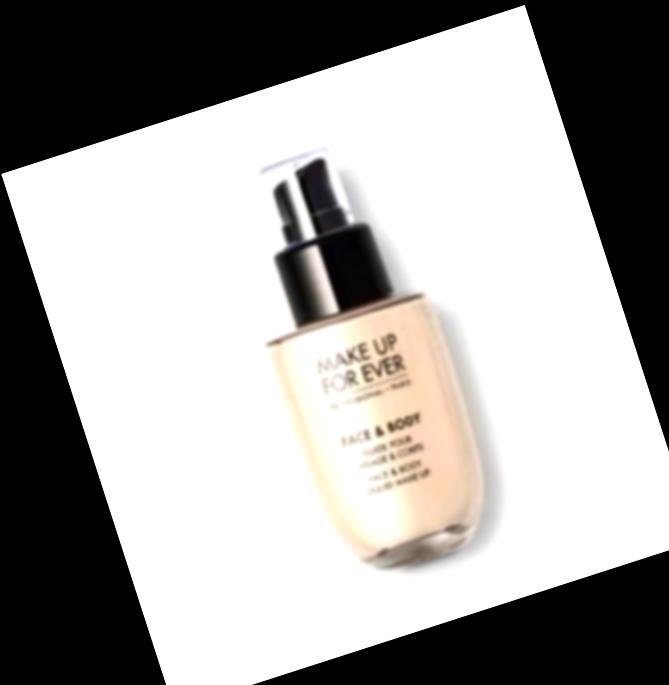cosmetic: (211, 127, 510, 589)
